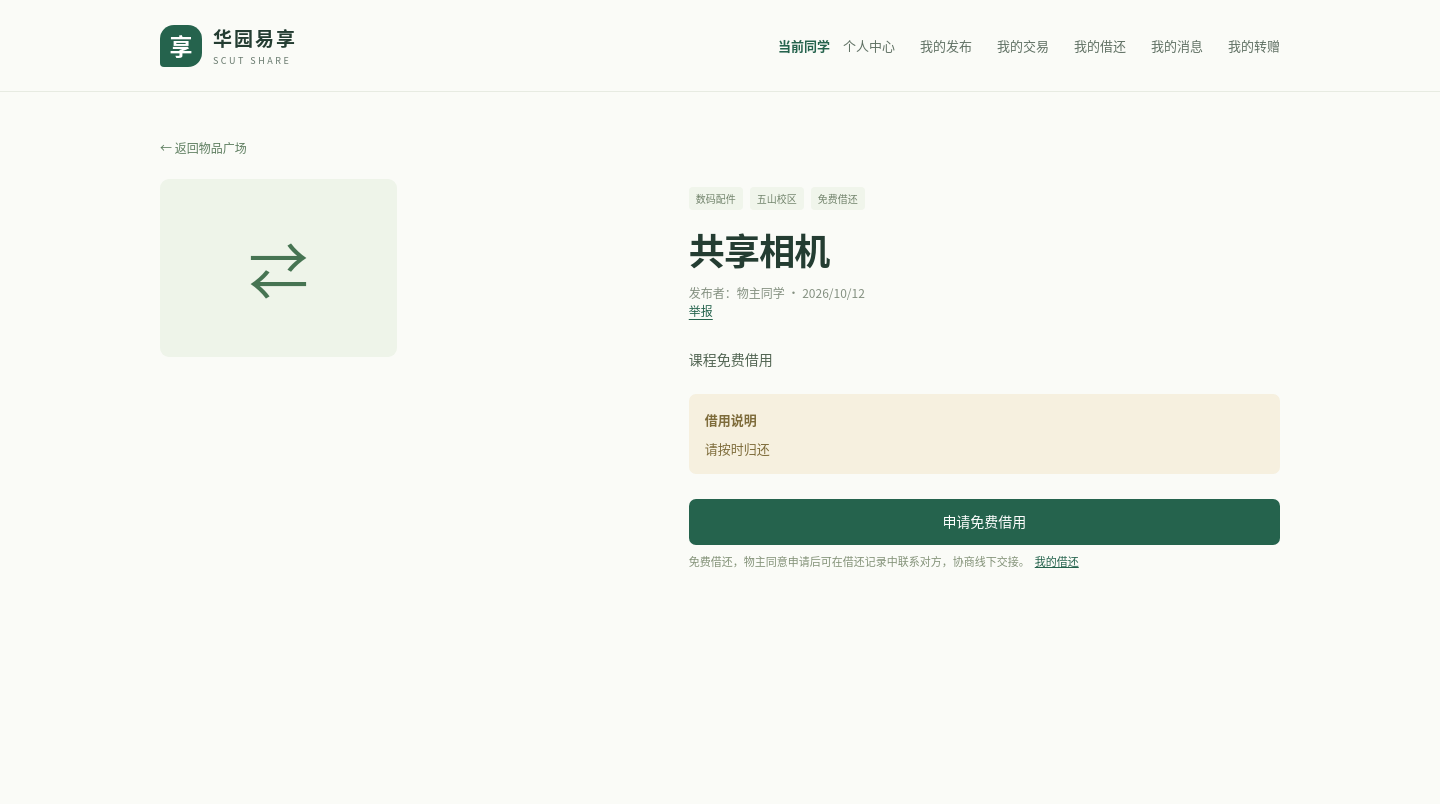
表单阻止逆序时间，重复有效申请错误保留填写内容
Click the button "申请免费借用": (984, 522) [689,499,1280,545]
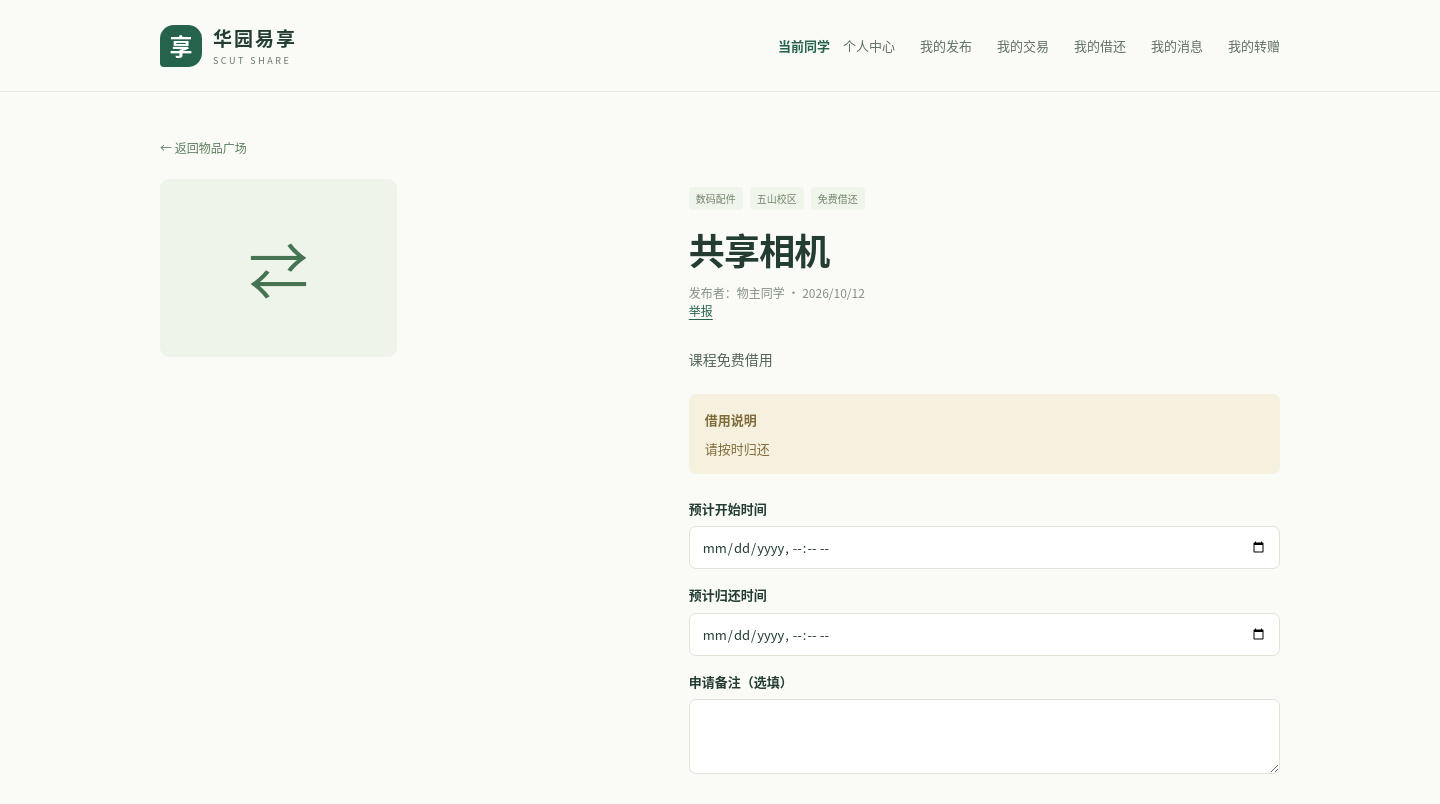
In the field labelled "预计开始时间": (984, 548) [689,526,1280,570], type "2030-01-03T10:00"
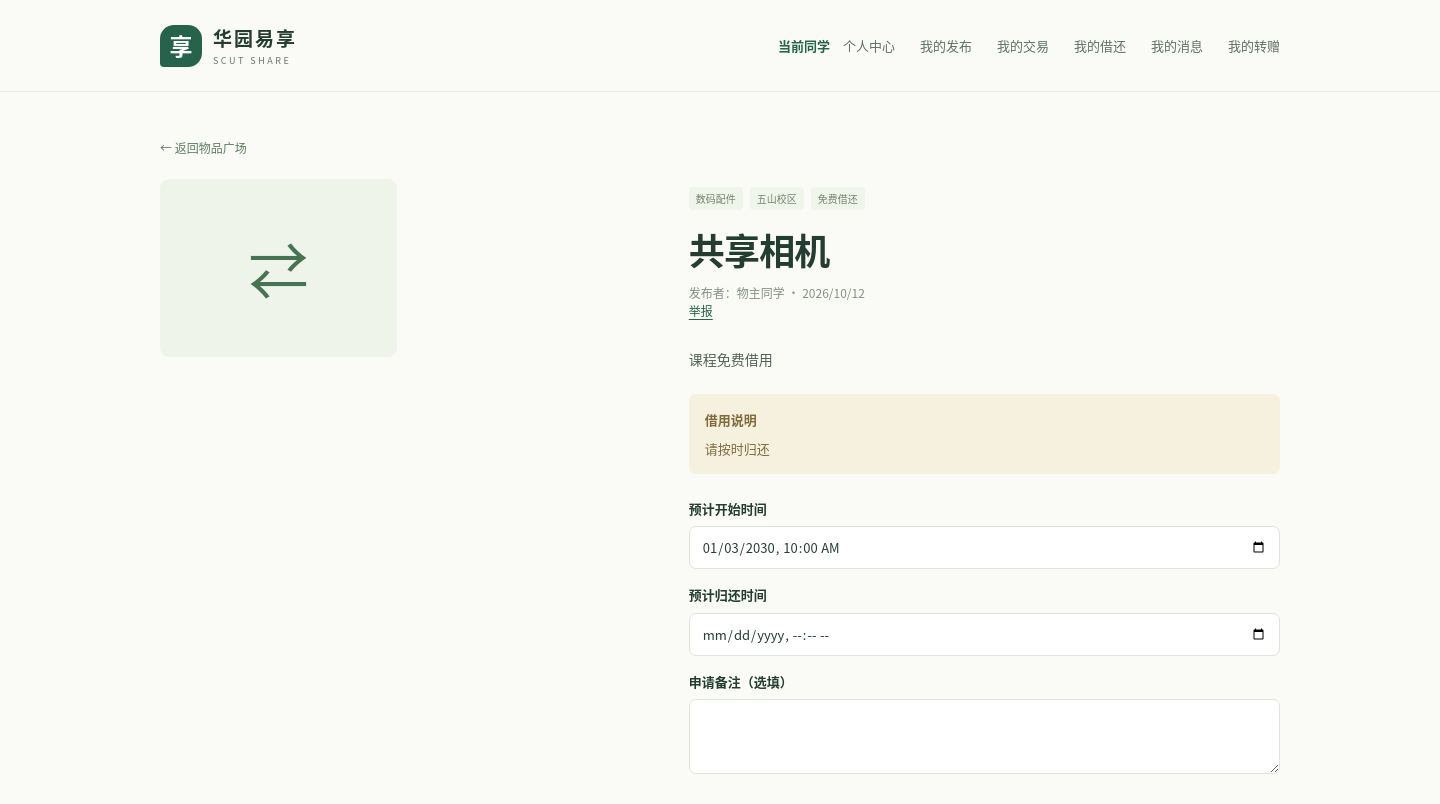
In the field labelled "预计归还时间": (984, 634) [689,613,1280,656], type "2030-01-01T10:00"
(page scrolled)
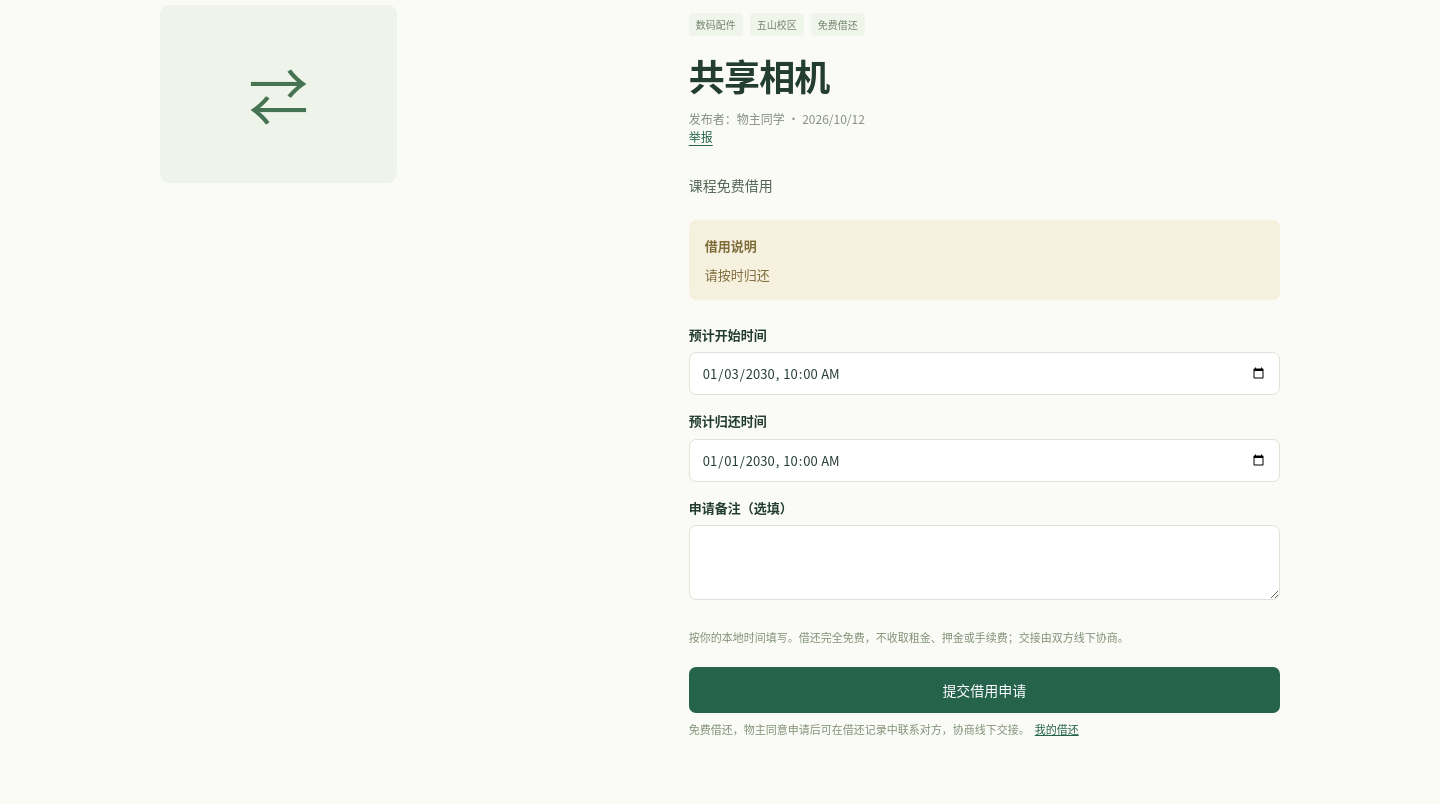
Submit the form "提交借用申请", box [689,325,1280,713]
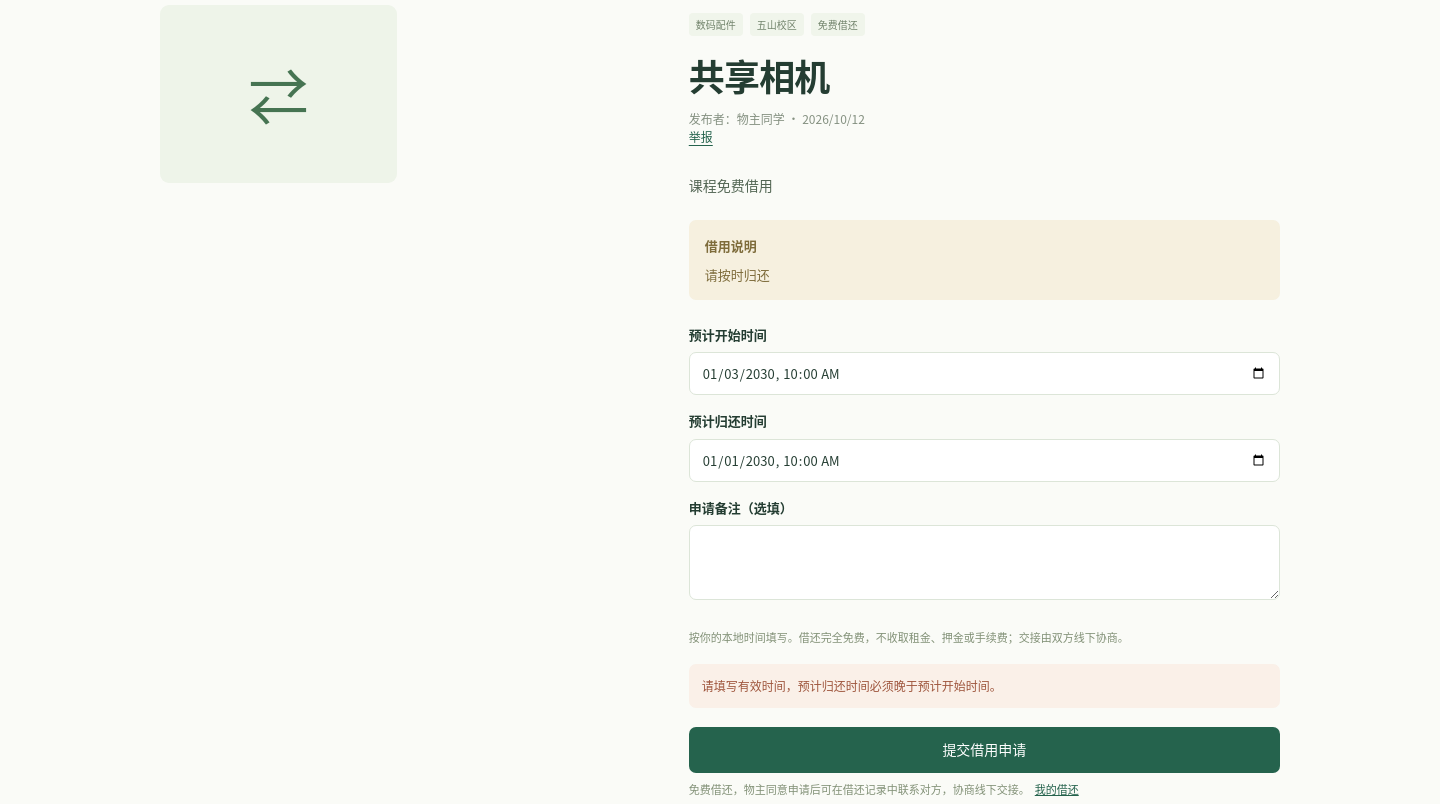
Expected: the message shows "预计归还时间必须晚于预计开始时间", [702,677,1002,694]
Replace the text in the field labelled "预计归还时间" with "2030-01-05T10:00": (984, 460) [689,439,1280,482]
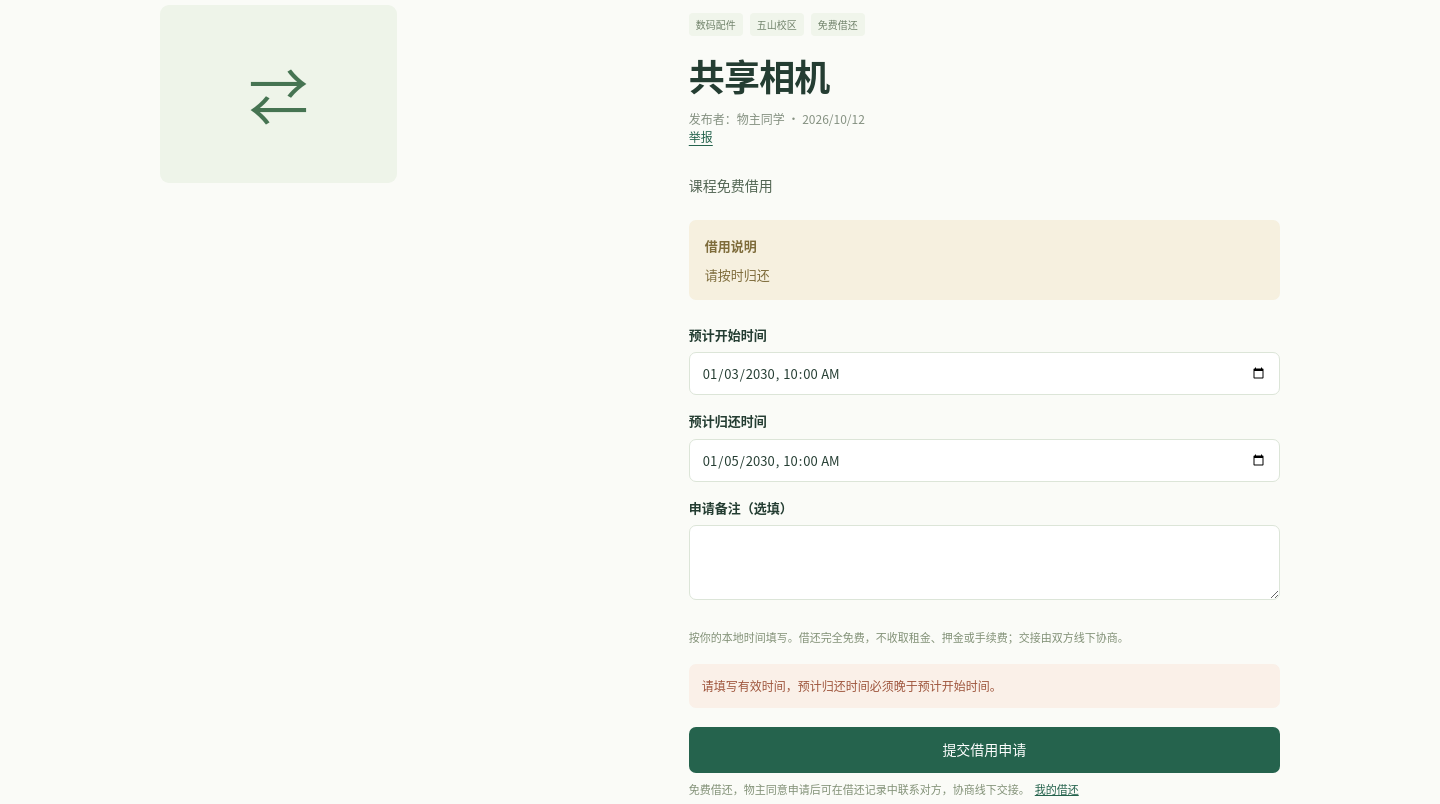
Submit the form named "提交借用申请", box [689,325,1280,773]
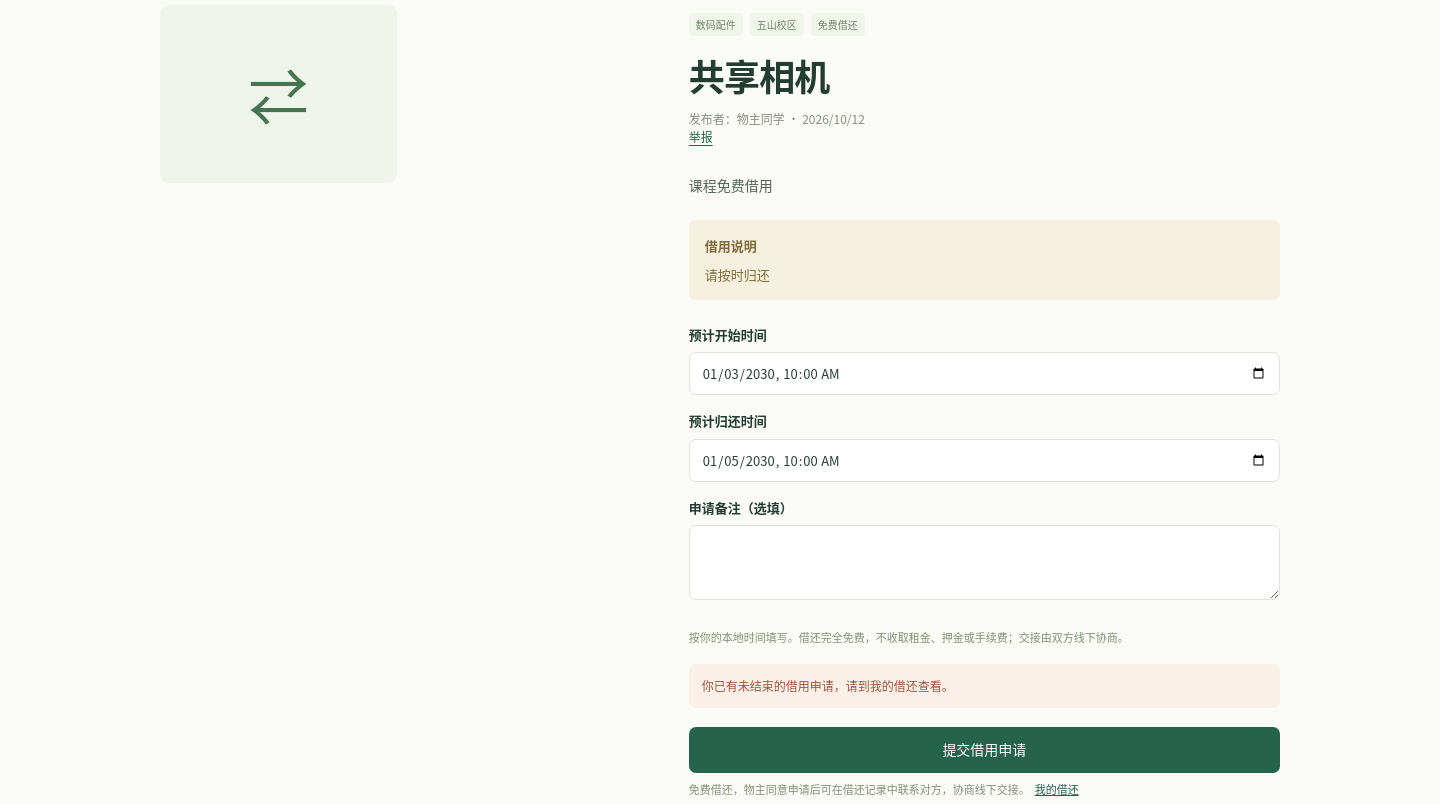
Expected: the button "提交借用申请" is enabled, [689,727,1280,773]
Expected: the message shows "你已有未结束的借用申请", [702,677,954,694]
